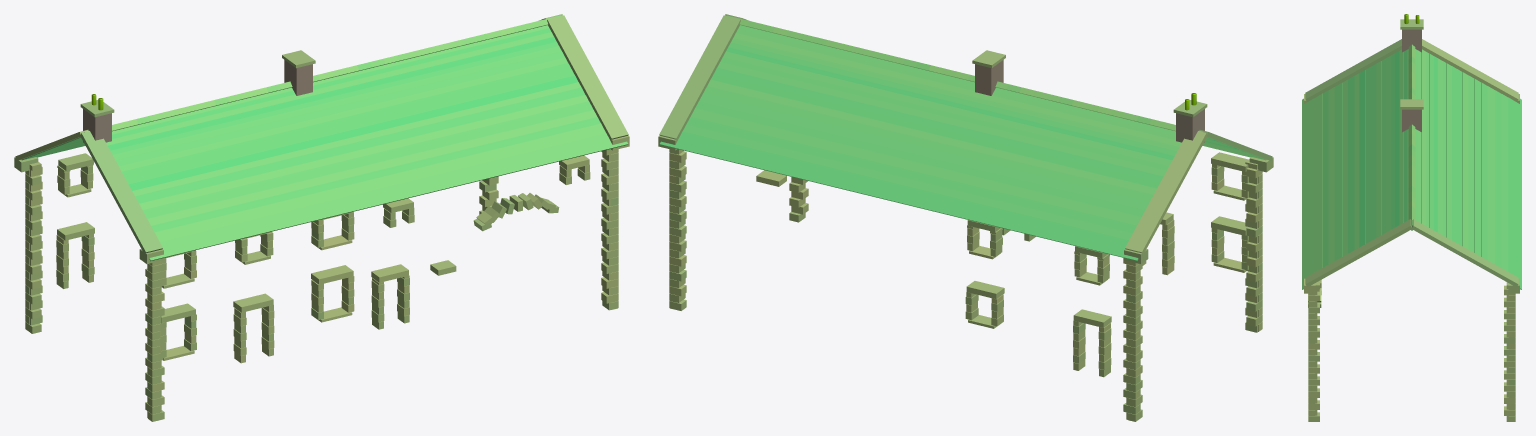
Rendered from SM_Bld_158_Stone.glb.
3 views of the same model, side by side, from view 1: azimuth 30°, elevation 25°; view 2: azimuth 150°, elevation 25°; view 3: azimuth 270°, elevation 25° (orthographic). The views are drawn at different scales.
Visible parts, largest first — view 1: SM_Bld_158_Stone; view 2: SM_Bld_158_Stone; view 3: SM_Bld_158_Stone.
Boxes of the visible parts, left/top/right/bottom form: SM_Bld_158_Stone: left=14, top=14, right=629, bottom=421; SM_Bld_158_Stone: left=658, top=14, right=1273, bottom=421; SM_Bld_158_Stone: left=1302, top=14, right=1521, bottom=421.
Bounding box in the file's own units: 20.44 × 11.2 × 9.91.
